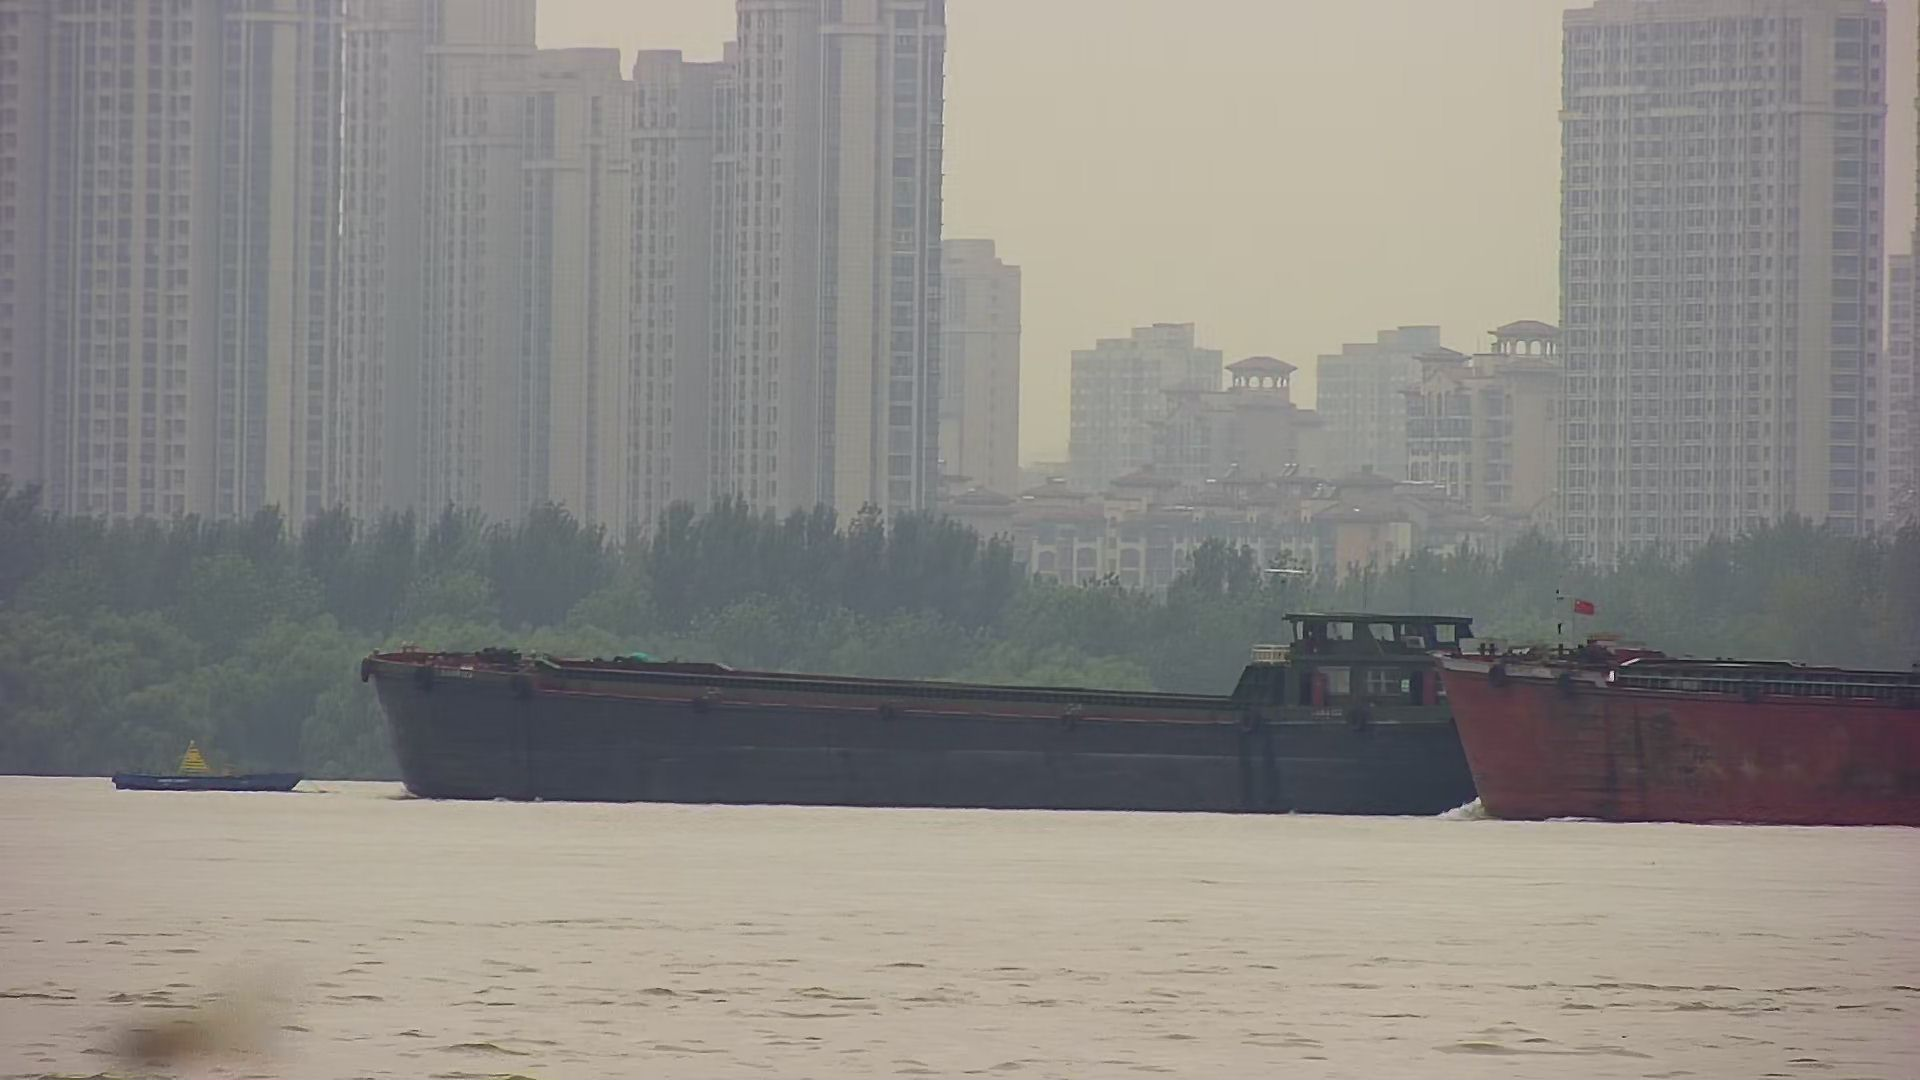boat: (109, 736, 301, 795)
ship: (364, 599, 1505, 823), (1441, 588, 1920, 833)
